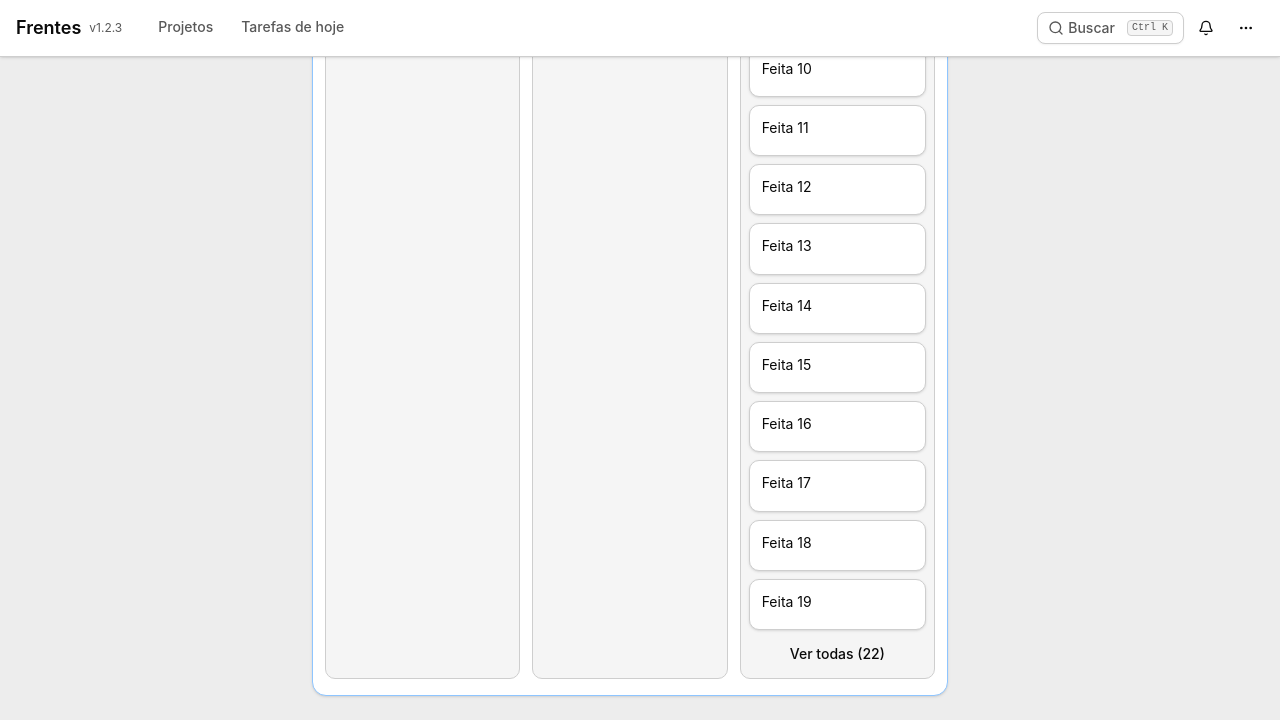
Test: QuadroTarefas (01 §4.4) › "Ver todas (N)" aparece com mais de 20 concluídas e lista todas
The width and height of the screenshot is (1280, 720).
(page scrolled)
Click the button "Ver todas (22)" at (837, 654), box [749,638,926,670]
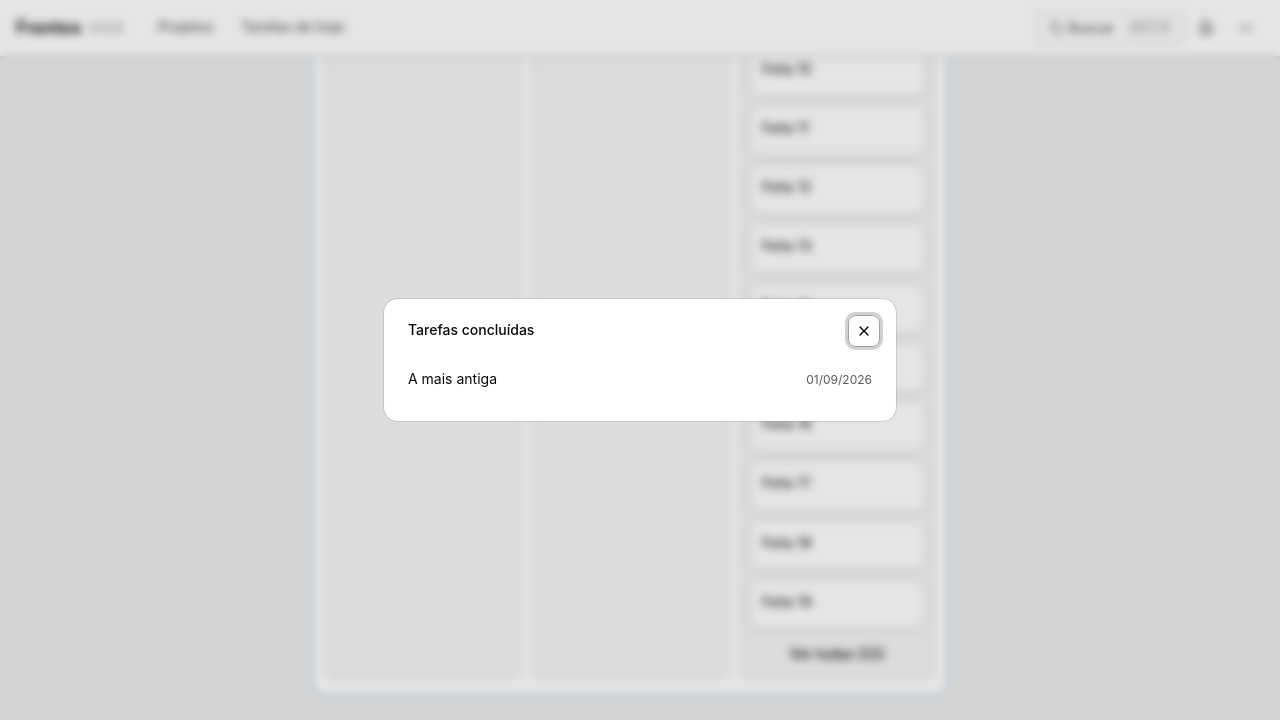
Expected: the text "A mais antiga" is shown, [408,369,497,389]
Expected: the text "01/09/2026" is shown, [806,372,872,388]
